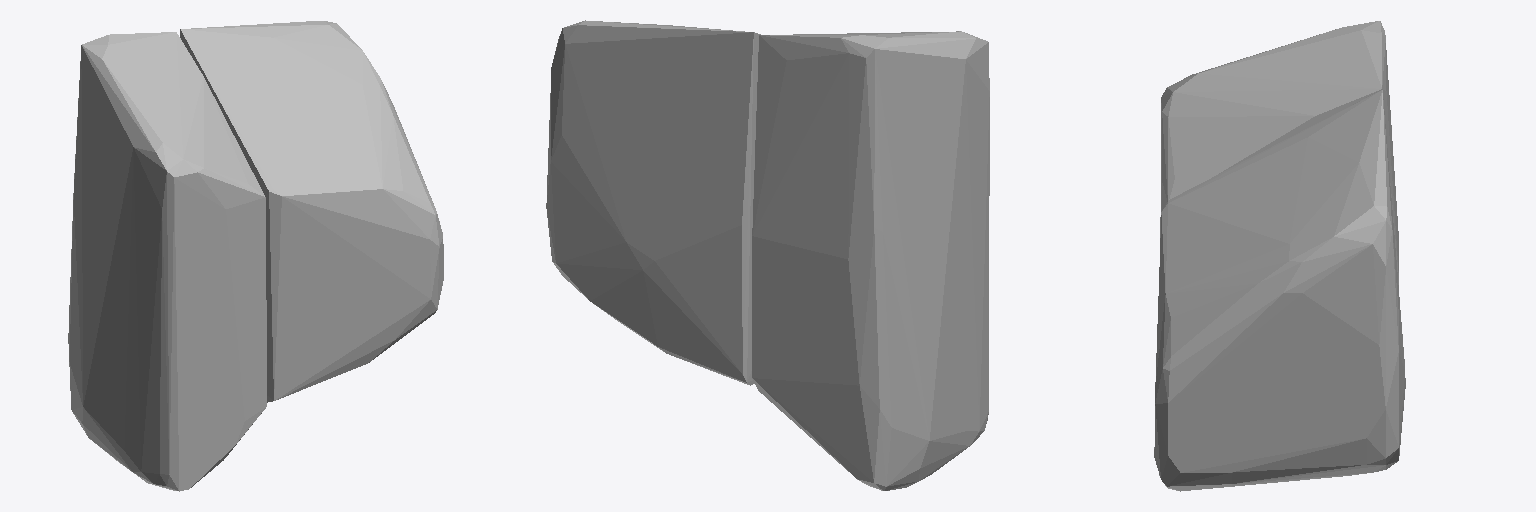
The robot description file, URDF, robot "root":
<robot name="root">
  <link name="link_rock4_convex_piece_0">
    <inertial>
      <origin rpy="0 0 0" xyz="0 0 0"/>
      <mass value="2.42E+05"/>
      <inertia ixx="-1.45E+08" ixy="2.43E+09" ixz="-3.21E+09" iyy="3.99E+09" iyz="8.02E+07" izz="4.74E+09"/>
    </inertial>
    <visual>
      <origin rpy="0 0 0" xyz="0 0 0"/>
      <geometry>
        <mesh filename="rock4_convex_piece_0.obj" scale="1.0000E+00 1.0000E+00 1.0000E+00"/>
      </geometry>
      <material name="">
        <color rgba="7.50E-01 7.50E-01 7.50E-01 1"/>
      </material>
    </visual>
    <collision>
      <origin rpy="0 0 0" xyz="0 0 0"/>
      <geometry>
        <mesh filename="rock4_convex_piece_0.obj" scale="1.0000E+00 1.0000E+00 1.0000E+00"/>
      </geometry>
    </collision>
  </link>
  <link name="link_rock4_convex_piece_1">
    <inertial>
      <origin rpy="0 0 0" xyz="0 0 0"/>
      <mass value="2.69E+05"/>
      <inertia ixx="1.15E+09" ixy="-2.08E+09" ixz="2.86E+09" iyy="-2.52E+09" iyz="-2.83E+08" izz="-3.50E+09"/>
    </inertial>
    <visual>
      <origin rpy="0 0 0" xyz="0 0 0"/>
      <geometry>
        <mesh filename="rock4_convex_piece_1.obj" scale="1.0000E+00 1.0000E+00 1.0000E+00"/>
      </geometry>
      <material name="">
        <color rgba="7.50E-01 7.50E-01 7.50E-01 1"/>
      </material>
    </visual>
    <collision>
      <origin rpy="0 0 0" xyz="0 0 0"/>
      <geometry>
        <mesh filename="rock4_convex_piece_1.obj" scale="1.0000E+00 1.0000E+00 1.0000E+00"/>
      </geometry>
    </collision>
  </link>
  <joint name="link_rock4_convex_piece_1_joint" type="fixed">
    <origin rpy="0 0 0" xyz="0 0 0"/>
    <parent link="link_rock4_convex_piece_0"/>
    <child link="link_rock4_convex_piece_1"/>
  </joint>
</robot>

--- Facts derived from the render (not from the file) ---
3 views of the same robot in one strip: view 1: azimuth 30°, elevation 25°; view 2: azimuth 150°, elevation 25°; view 3: azimuth 270°, elevation 25° (orthographic).
Model root with 2 links and 1 joints (1 fixed), rooted at link_rock4_convex_piece_0, posed all joints at 0.
Visible links, largest first — view 1: link_rock4_convex_piece_0, link_rock4_convex_piece_1; view 2: link_rock4_convex_piece_0, link_rock4_convex_piece_1; view 3: link_rock4_convex_piece_1, link_rock4_convex_piece_0.
Link boxes in pixels (x1,y1,x2,y2): link_rock4_convex_piece_0: [68, 32, 266, 491]; link_rock4_convex_piece_1: [180, 21, 443, 402]; link_rock4_convex_piece_0: [752, 31, 989, 490]; link_rock4_convex_piece_1: [546, 20, 760, 385]; link_rock4_convex_piece_1: [1154, 90, 1405, 491]; link_rock4_convex_piece_0: [1159, 21, 1398, 475].
Bounding box of the posed robot: 106 × 66.19 × 133 m (x, y, z).
2 mesh visuals loaded from 2 distinct referenced files (2 OBJ).